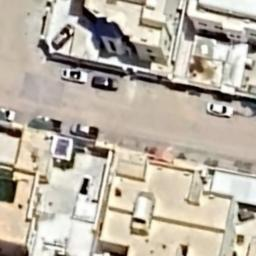SUV: (91, 72, 121, 92)
pickup: (66, 120, 100, 142), (35, 114, 65, 134)
sedan: (59, 64, 90, 86), (204, 99, 236, 120), (0, 108, 18, 124)
